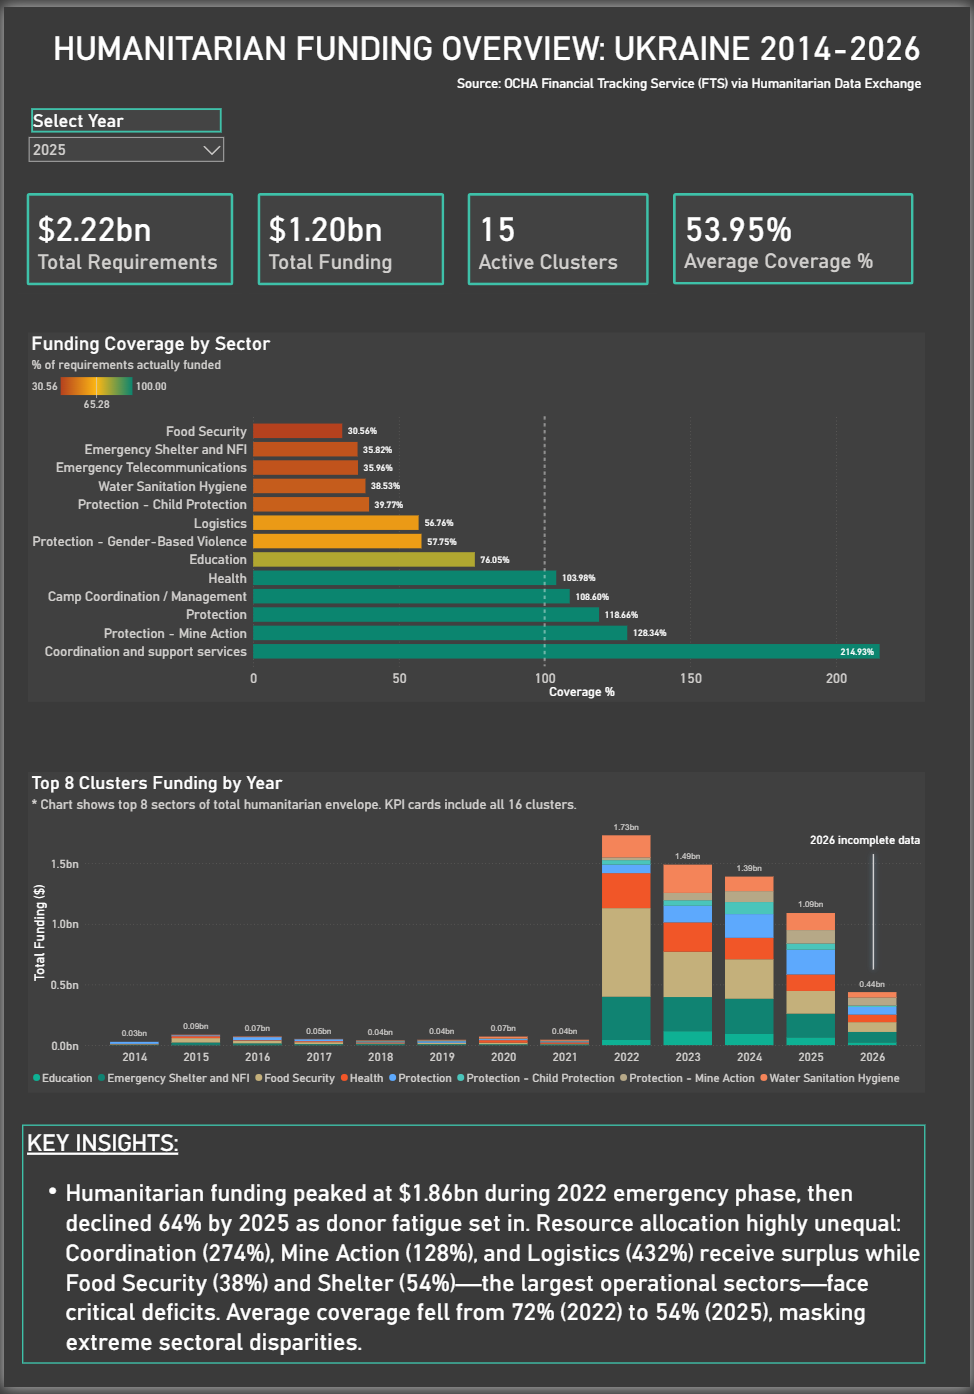

Layout of this report page (visuals, bound fields, positions):
{"tool":"powerbi","page":{"name":"All sectors","canvas":[1360,2000],"ordinal":1},"visuals":[{"type":"slicer","fields":{"Values":["aggregated_stats_by_year.year"]},"box":[25.9,141.1,302.6,102.6],"z":0},{"type":"cardVisual","fields":{"Data":["aggregated_stats_by_year.Total Funding"]},"box":[349.5,251.6,305.3,168.4],"z":1000},{"type":"cardVisual","fields":{"Data":["aggregated_stats_by_year.Active Clusters"]},"box":[654.8,251.6,297.4,168.4],"z":2000},{"type":"cardVisual","fields":{"Data":["aggregated_stats_by_year.Avg Coverage"]},"box":[951.6,251.6,383.9,167.7],"z":3000},{"type":"cardVisual","fields":{"Data":["aggregated_stats_by_year.Total Requirements"]},"box":[15.3,251.6,334.2,168.4],"z":4000},{"type":"columnChart","title":"Top 8 Clusters Funding by Year","fields":{"Category":["all_clusters_funding_by_year.year"],"Y":["Sum(all_clusters_funding_by_year.total_funding)"],"Series":["all_clusters_funding_by_year.cluster"]},"box":[35.5,1109.7,1300,464.5],"z":5000},{"type":"barChart","title":"Funding Coverage by Sector","fields":{"Category":["all_clusters_summary.cluster"],"Y":["Sum(all_clusters_summary.coverage_pct)"]},"box":[35.5,471,1300,535.5],"z":6000},{"type":"shape","box":[1233.3,1219,54.8,183.3],"z":7000},{"type":"textbox","box":[0,28.1,1359.4,65.6],"z":8000},{"type":"textbox","box":[596.9,93.8,712.5,46.9],"z":9000},{"type":"textbox","box":[1162.5,1190.6,190.6,43.8],"z":10000},{"type":"textbox","box":[25,1618.8,1309.4,346.9],"z":10001}]}

Visuals, with their boxes in screenshot pixels (x1, y1, x2, y2), scaled from the page's 1360x2000 canvas onto the 974x1394 screenshot:
slicer - aggregated_stats_by_year.year: [19,98,235,170]
cardVisual - aggregated_stats_by_year.Total Funding: [250,175,469,293]
cardVisual - aggregated_stats_by_year.Active Clusters: [469,175,682,293]
cardVisual - aggregated_stats_by_year.Avg Coverage: [682,175,956,292]
cardVisual - aggregated_stats_by_year.Total Requirements: [11,175,250,293]
"Top 8 Clusters Funding by Year" columnChart: [25,773,956,1097]
"Funding Coverage by Sector" barChart: [25,328,956,702]
shape: [883,850,923,977]
textbox: [0,20,973,65]
textbox: [427,65,938,98]
textbox: [833,830,969,860]
textbox: [18,1128,956,1370]
